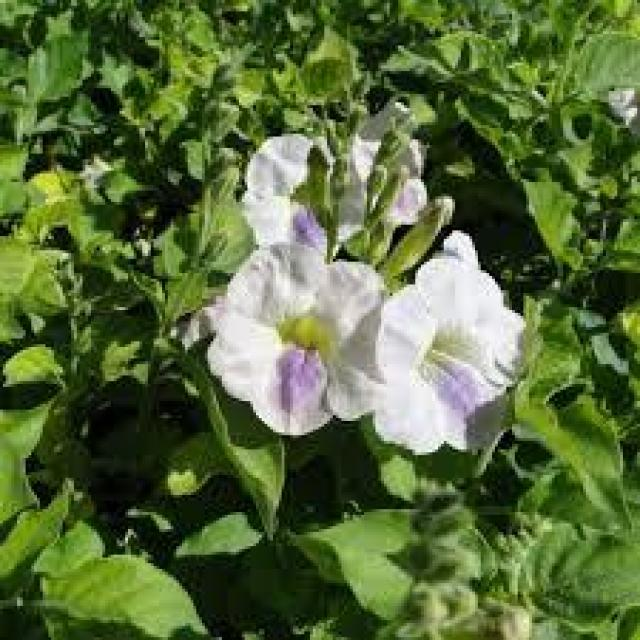organic waste: (198, 221, 400, 445), (354, 233, 531, 461)
